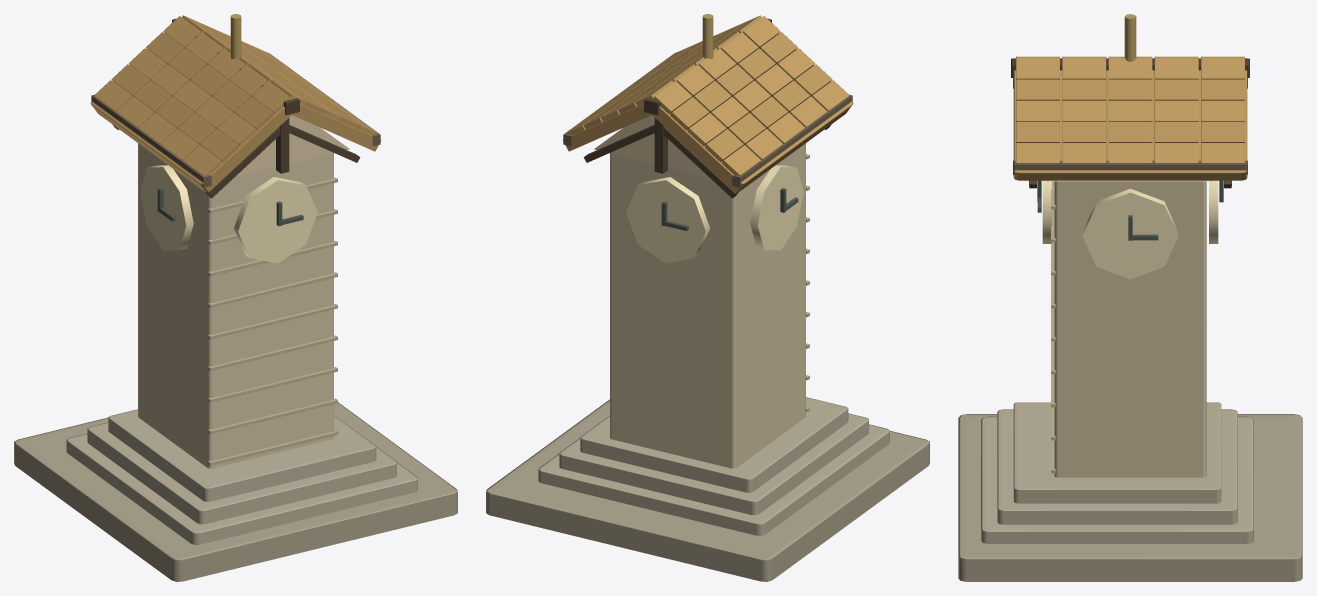
File: clock-3.glb
3 views of the same model, side by side, from view 1: azimuth 30°, elevation 25°; view 2: azimuth 150°, elevation 25°; view 3: azimuth 270°, elevation 25° (orthographic). The views are drawn at different scales.
Visible parts, largest first — view 1: clock-3-0; view 2: clock-3-0; view 3: clock-3-0.
Boxes of the visible parts, x1,y1,x2,y2 form: clock-3-0: (14,14,457,581); clock-3-0: (486,14,929,581); clock-3-0: (958,14,1302,581).
Bounding box in the file's own units: 2.65 × 4.19 × 2.65.
